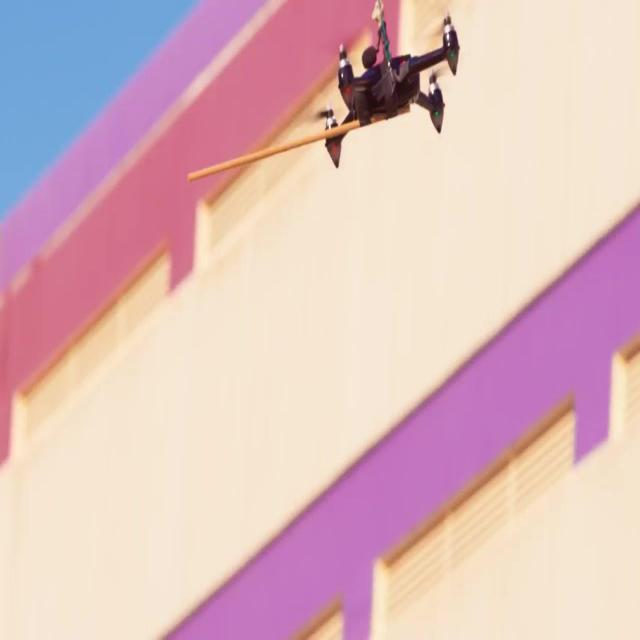UAV: (318, 2, 462, 170)
